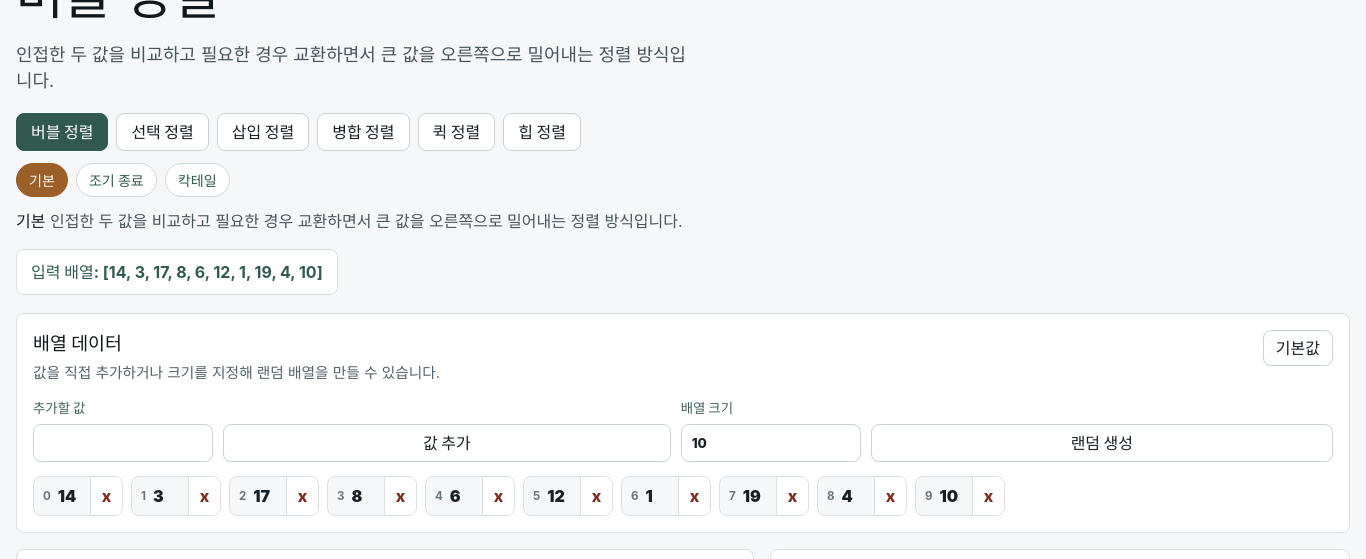
Test: SortingPage › adds and deletes array values for the generated trace
The width and height of the screenshot is (1366, 559).
Type "21" into the number field labelled "추가할 값" at coordinates (123, 443), box left=33, top=424, right=213, bottom=462
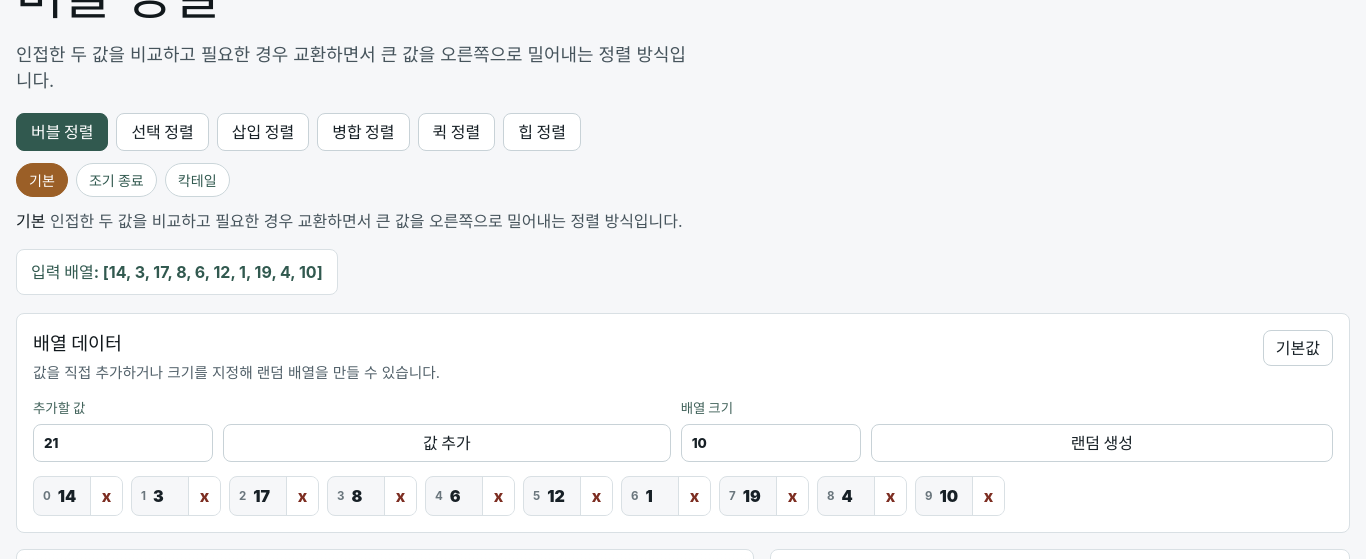
Click the button "값 추가" at coordinates (447, 443), box left=223, top=424, right=671, bottom=462
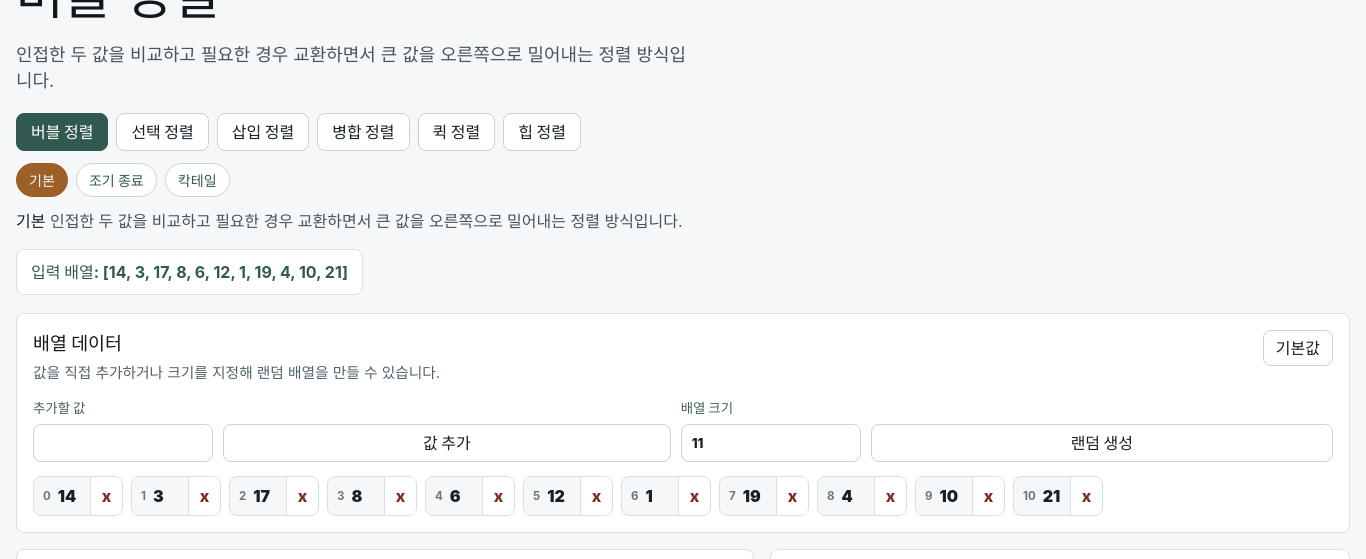
Expected: the text "입력 배열: [14, 3, 17, 8, 6, 12, 1, 19, 4, 10, 21]" is shown, left=16, top=249, right=363, bottom=295
Click the button named "0번 값 14 삭제" at coordinates (106, 496), box left=90, top=477, right=122, bottom=515
(page scrolled)
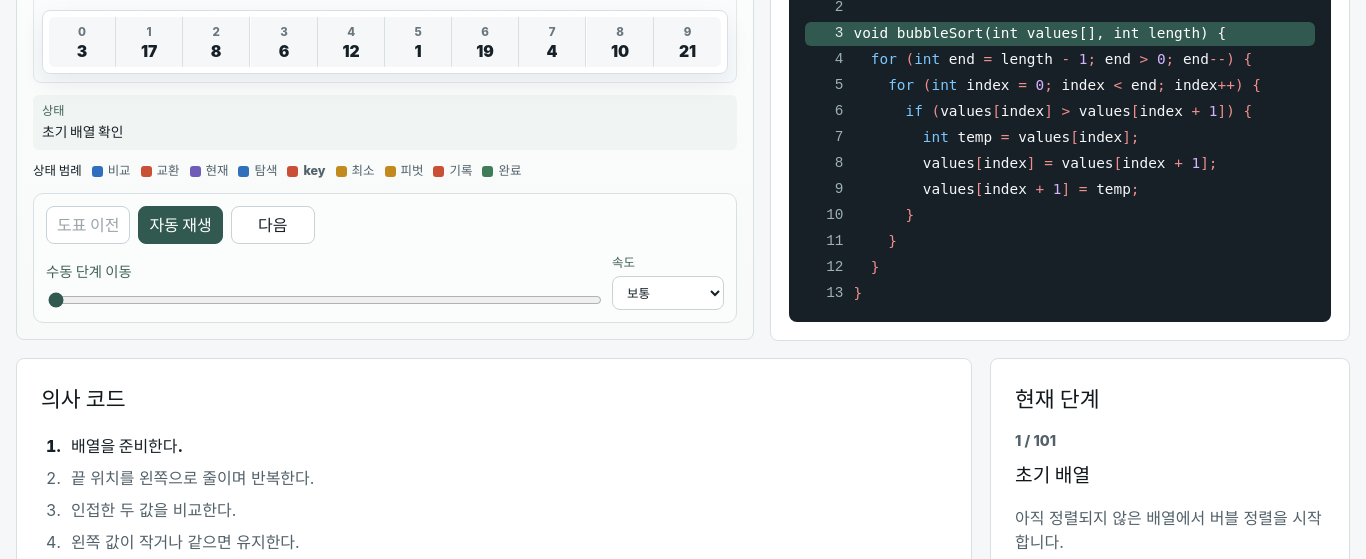
Click the button with aria-label "도표 다음" at coordinates (273, 225), box left=231, top=206, right=315, bottom=244
(page scrolled)
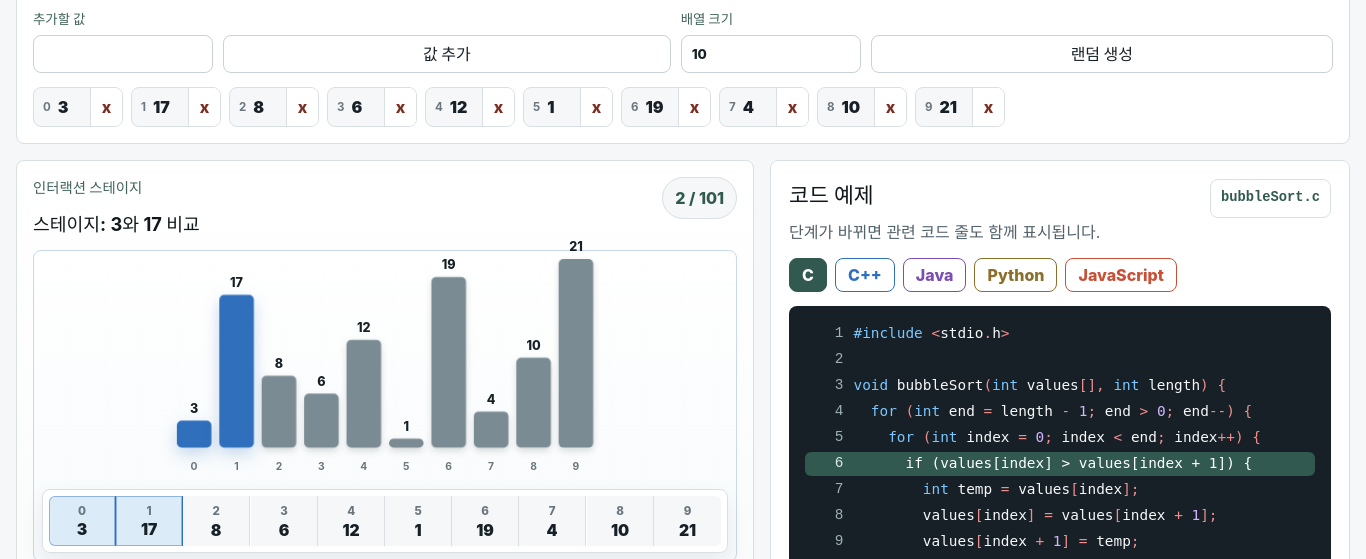
Expected: the heading "스테이지: 3와 17 비교" is shown, left=33, top=211, right=200, bottom=238
